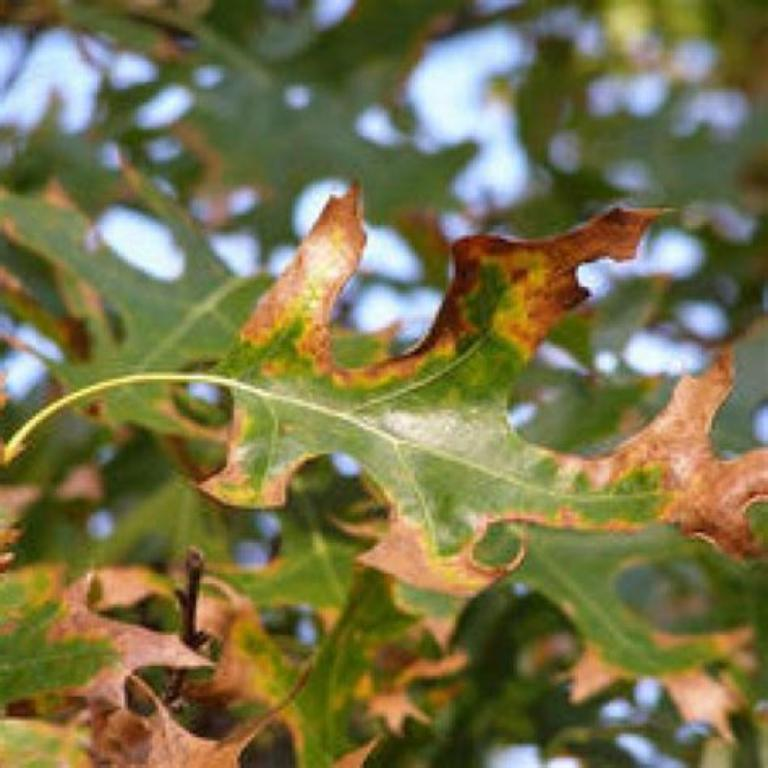blight: (459, 182, 633, 380), (596, 383, 766, 539), (228, 189, 376, 357)
